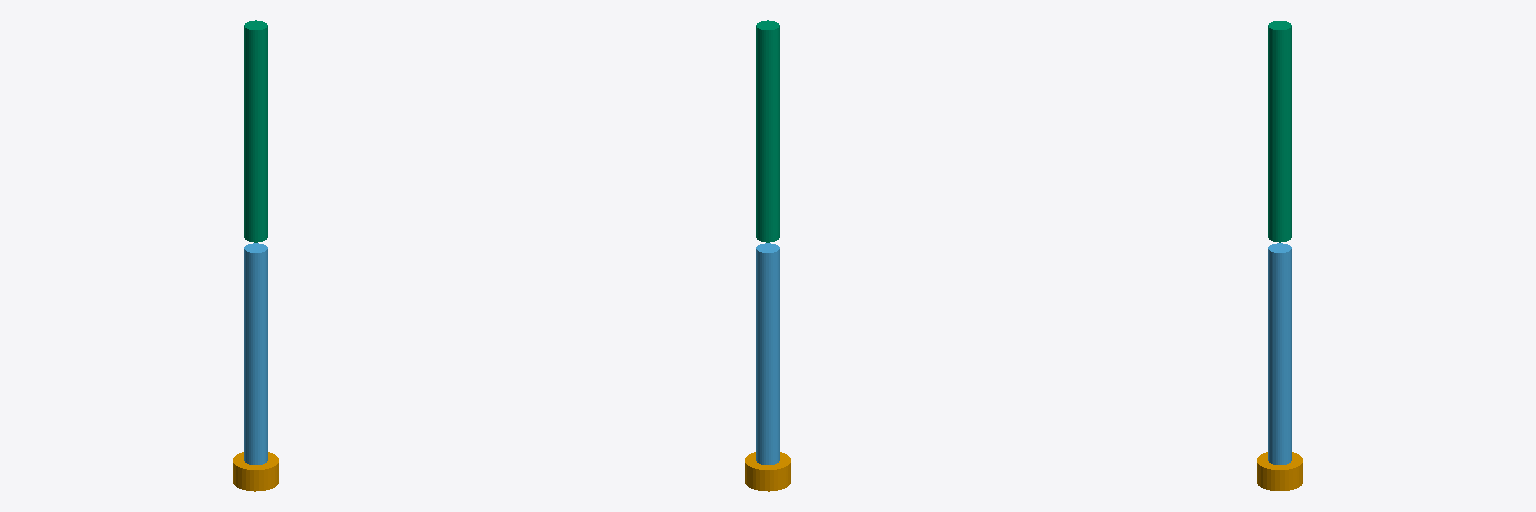
robot.urdf — simple_2dof_arm:
<?xml version="1.0"?>
<robot name="simple_2dof_arm">
  <!-- Base Link -->
  <link name="base_link">
    <visual>
      <geometry>
        <cylinder length="0.1" radius="0.1"/>
      </geometry>
    </visual>
  </link>

  <!-- Link 1 -->
  <link name="link1">
    <visual>
      <geometry>
        <cylinder length="1.0" radius="0.05"/>
      </geometry>
    </visual>
  </link>

  <!-- Link 2 -->
  <link name="link2">
    <visual>
      <geometry>
        <cylinder length="1.0" radius="0.05"/>
      </geometry>
    </visual>
  </link>

  <!-- Joint 1 -->
  <joint name="joint1" type="revolute">
    <parent link="base_link"/>
    <child link="link1"/>
    <origin xyz="0 0 0.55" rpy="0 0 0"/>
    <axis xyz="0 0 1"/>
    <limit lower="-1.5707" upper="1.5707" effort="50.0" velocity="1.0"/>
  </joint>

  <!-- Joint 2 -->
  <joint name="joint2" type="revolute">
    <parent link="link1"/>
    <child link="link2"/>
    <origin xyz="0.0 0 1.05" rpy="0 0 0"/>
    <axis xyz="0 0 1"/>
    <limit lower="-1.5707" upper="1.5707" effort="50.0" velocity="1.0"/>
  </joint>
</robot>

--- What the picture shows (computed from the rendered views, not written in the file) ---
Views: 3 orthographic renders of the robot side by side, from view 1: azimuth 30°, elevation 25°; view 2: azimuth 150°, elevation 25°; view 3: azimuth 270°, elevation 25°.
Robot: simple_2dof_arm — 3 links, 2 joints (2 revolute); root link base_link; default pose: every joint at zero.
Visible links, largest first — view 1: link1, link2, base_link; view 2: link1, link2, base_link; view 3: link1, link2, base_link.
Link boxes in pixels (x1=…): link1: x1=244, y1=243, x2=267, y2=464; link2: x1=244, y1=20, x2=267, y2=242; base_link: x1=233, y1=452, x2=278, y2=491; link1: x1=756, y1=243, x2=779, y2=464; link2: x1=756, y1=20, x2=779, y2=242; base_link: x1=745, y1=452, x2=790, y2=491; link1: x1=1268, y1=243, x2=1291, y2=464; link2: x1=1268, y1=21, x2=1291, y2=242; base_link: x1=1257, y1=452, x2=1302, y2=490.
Bounding box of the posed robot: 0.2 × 0.2 × 2.15 m (x, y, z).
Geometry: primitives only (box / cylinder / sphere), no mesh files.